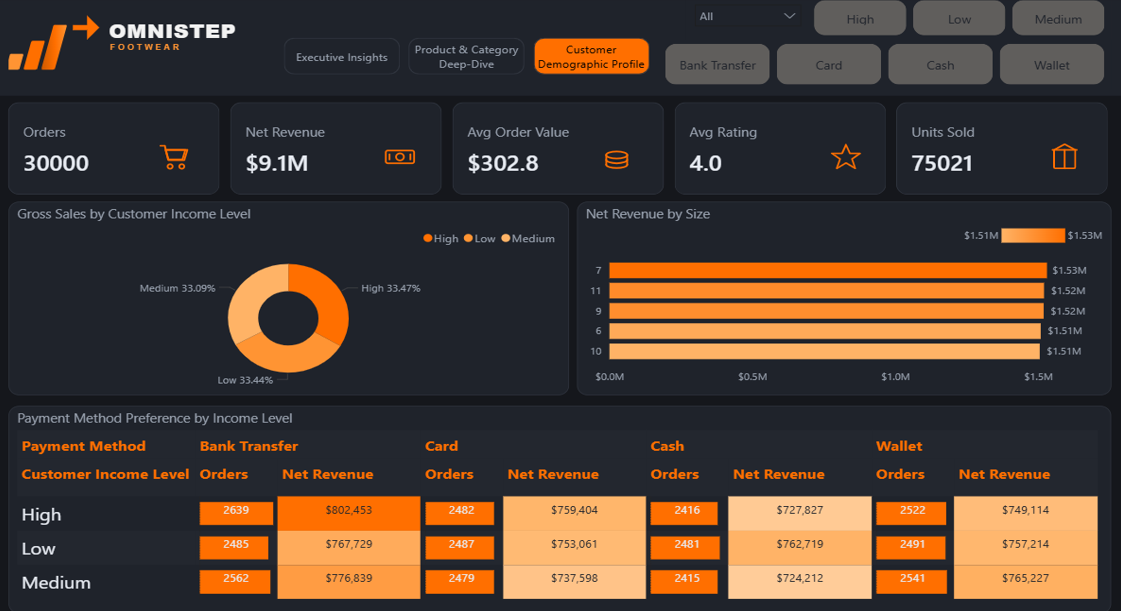

The page's visual inventory and layout, read from the dashboard file:
{"tool":"powerbi","page":{"name":"Customer Demographic Profile ","canvas":[1280,784],"ordinal":2},"visuals":[{"type":"shape","box":[0,0,1280.2,124.8],"z":0},{"type":"cardVisual","fields":{"Data":["Measures Table.Total Orders","Measures Table.Net Revenue","Measures Table.Average Order Value","Measures Table.Average Rating","Measures Table.Total Units Sold"]},"box":[0,115.8,1280,150.5],"z":1000},{"type":"image","box":[16.7,0,299.8,124.8],"z":2000},{"type":"advancedSlicerVisual","fields":{"Values":["SalesDim.payment_method"]},"box":[754.9,54.8,509,61.5],"z":3000},{"type":"advancedSlicerVisual","fields":{"Values":["FactSales.customer_income_level"]},"box":[923.2,0,340.7,54.8],"z":4000},{"type":"pivotTable","title":"Payment Method Preference by Income Level","fields":{"Rows":["FactSales.customer_income_level"],"Columns":["SalesDim.payment_method"],"Values":["Measures Table.Total Orders","Measures Table.Net Revenue"]},"box":[17.4,514.4,1246.6,260.5],"z":5000},{"type":"donutChart","title":"Gross Sales by Customer Income Level","fields":{"Category":["FactSales.customer_income_level"],"Y":["Measures Table.Gross Sales"]},"box":[17.4,257.9,633.3,243.2],"z":6000},{"type":"clusteredBarChart","title":"Net Revenue by Size","fields":{"Category":["ProductDim.size"],"Y":["Measures Table.Net Revenue"]},"box":[660,257.9,603.9,243.2],"z":7000},{"type":"slicer","fields":{"Values":["ProductDim.size"]},"box":[782.9,0,140.3,54.8],"z":8000},{"type":"pageNavigator","box":[328.1,52.8,414.3,46.3],"z":9000},{"type":"image","box":[434.2,181.7,50.8,40.1],"z":10000},{"type":"image","box":[180.4,181.7,50.8,40.1],"z":11000},{"type":"image","box":[1186.4,181.7,49.4,40.1],"z":12000},{"type":"image","box":[939.3,181.4,50.2,39.9],"z":13000},{"type":"image","box":[680.1,181.7,49.4,40.1],"z":14000}]}

Visuals, with their boxes on the page's 1280x784 design canvas (x1, y1, x2, y2). These are canvas units, not pixel positions in the 1121x611 screenshot, which may show the page scaled, cropped or inside an application window:
shape: <region>0, 0, 1280, 125</region>
cardVisual - Measures Table.Total Orders x Measures Table.Net Revenue: <region>0, 116, 1280, 266</region>
image: <region>17, 0, 316, 125</region>
advancedSlicerVisual - SalesDim.payment_method: <region>755, 55, 1264, 116</region>
advancedSlicerVisual - FactSales.customer_income_level: <region>923, 0, 1264, 55</region>
"Payment Method Preference by Income Level" pivotTable: <region>17, 514, 1264, 775</region>
"Gross Sales by Customer Income Level" donutChart: <region>17, 258, 651, 501</region>
"Net Revenue by Size" clusteredBarChart: <region>660, 258, 1264, 501</region>
slicer - ProductDim.size: <region>783, 0, 923, 55</region>
pageNavigator: <region>328, 53, 742, 99</region>
image: <region>434, 182, 485, 222</region>
image: <region>180, 182, 231, 222</region>
image: <region>1186, 182, 1236, 222</region>
image: <region>939, 181, 990, 221</region>
image: <region>680, 182, 730, 222</region>
